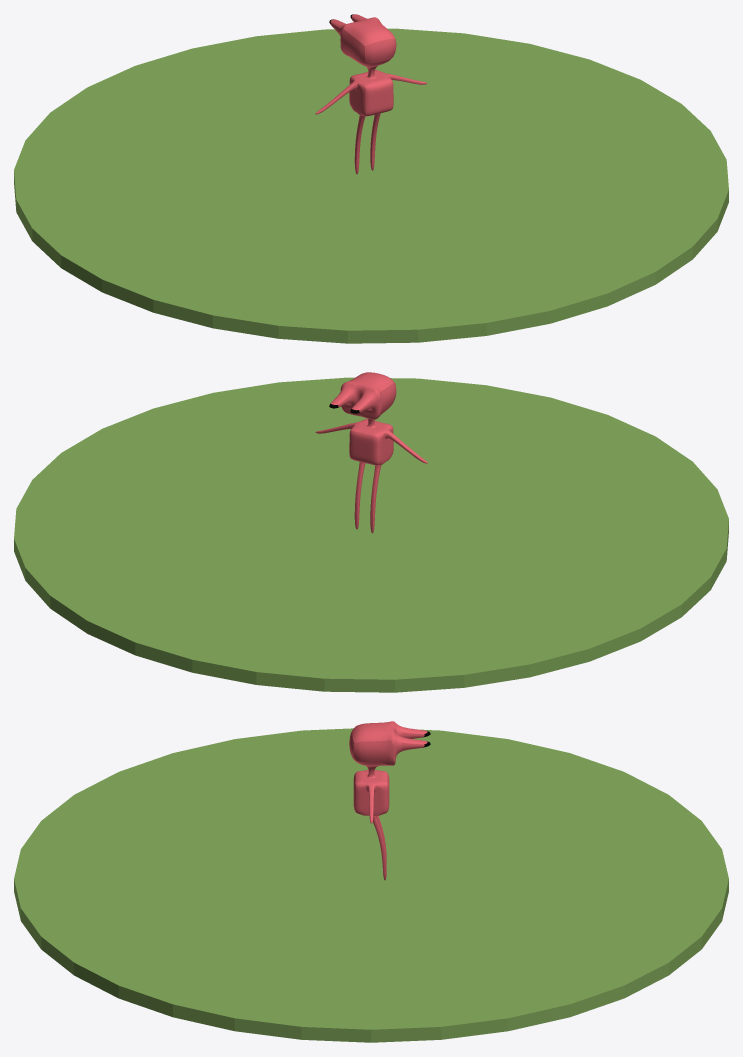
The model's file is Traveller Character.glb.
The picture shows the model from 3 angles, top to bottom: view 1: azimuth 30°, elevation 25°; view 2: azimuth 150°, elevation 25°; view 3: azimuth 270°, elevation 25°; orthographic projection.
Parts seen in each view (by area): view 1: Cylinder, Traveller; view 2: Cylinder, Traveller; view 3: Cylinder, Traveller.
Part boxes in pixels (<box>): Cylinder: <box>14,28,728,343</box>; Traveller: <box>315,14,427,174</box>; Cylinder: <box>14,377,728,692</box>; Traveller: <box>315,372,427,533</box>; Cylinder: <box>14,728,728,1042</box>; Traveller: <box>349,721,430,880</box>.
Bounding box in the file's own units: 2 × 0.5099 × 2.
